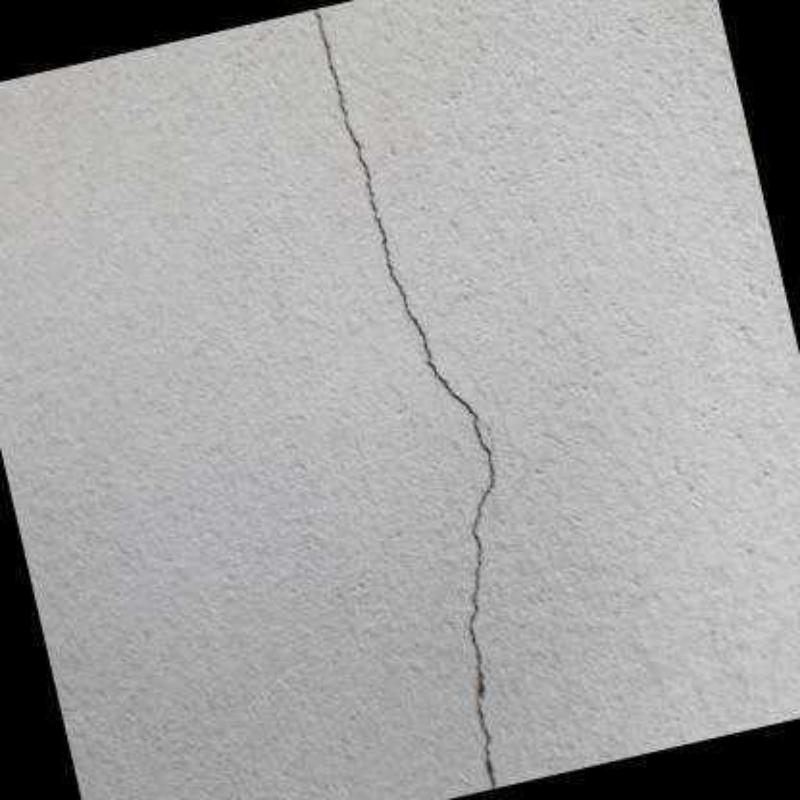crack: (315, 8, 497, 789)
